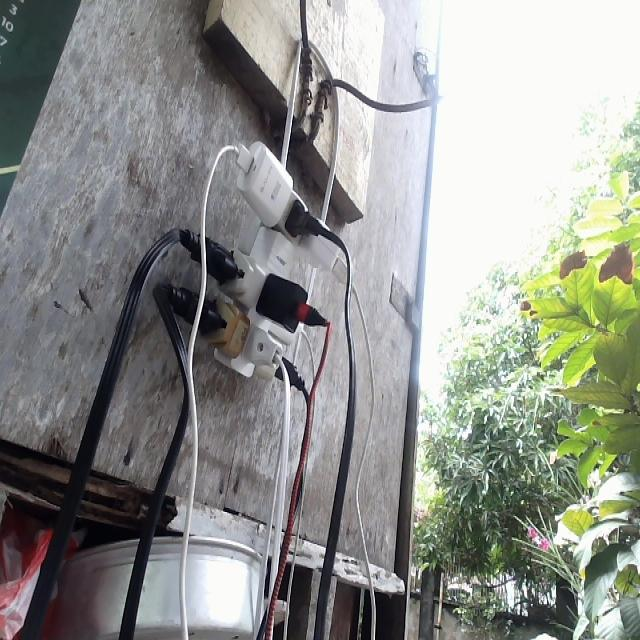-: (169, 139, 348, 388)
